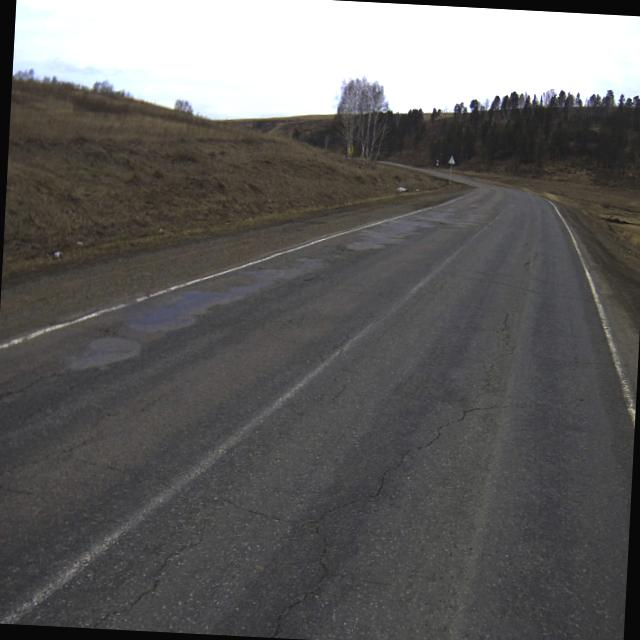road: (0, 175, 635, 640), (427, 171, 449, 178)
